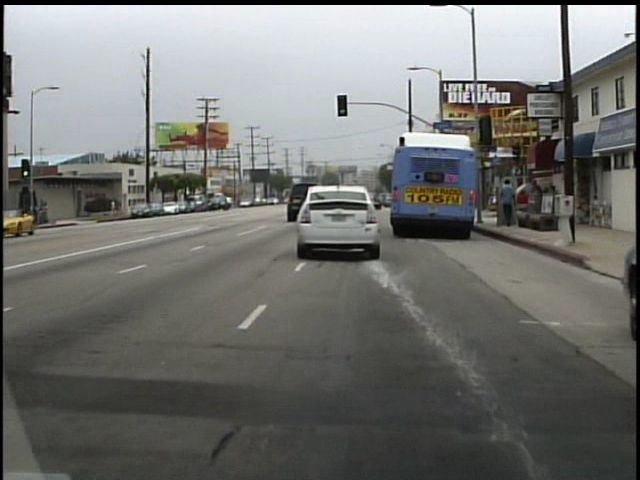person: (495, 177, 517, 232), (110, 196, 120, 218)
